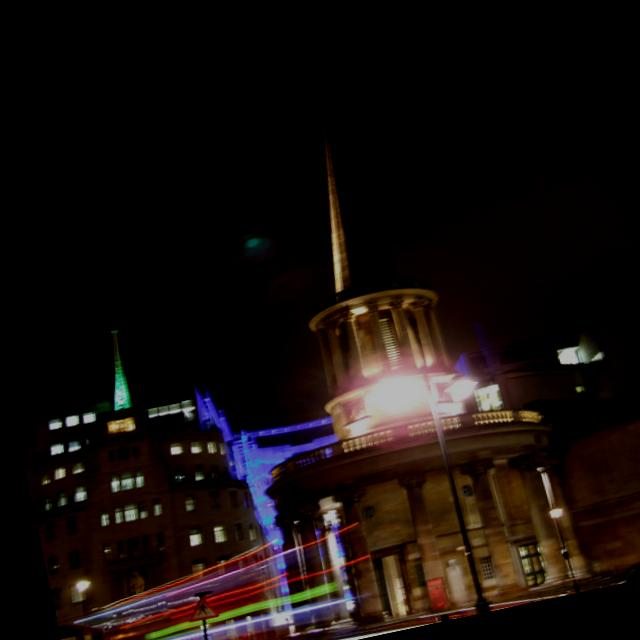Vehicle: (603, 549, 640, 586)
